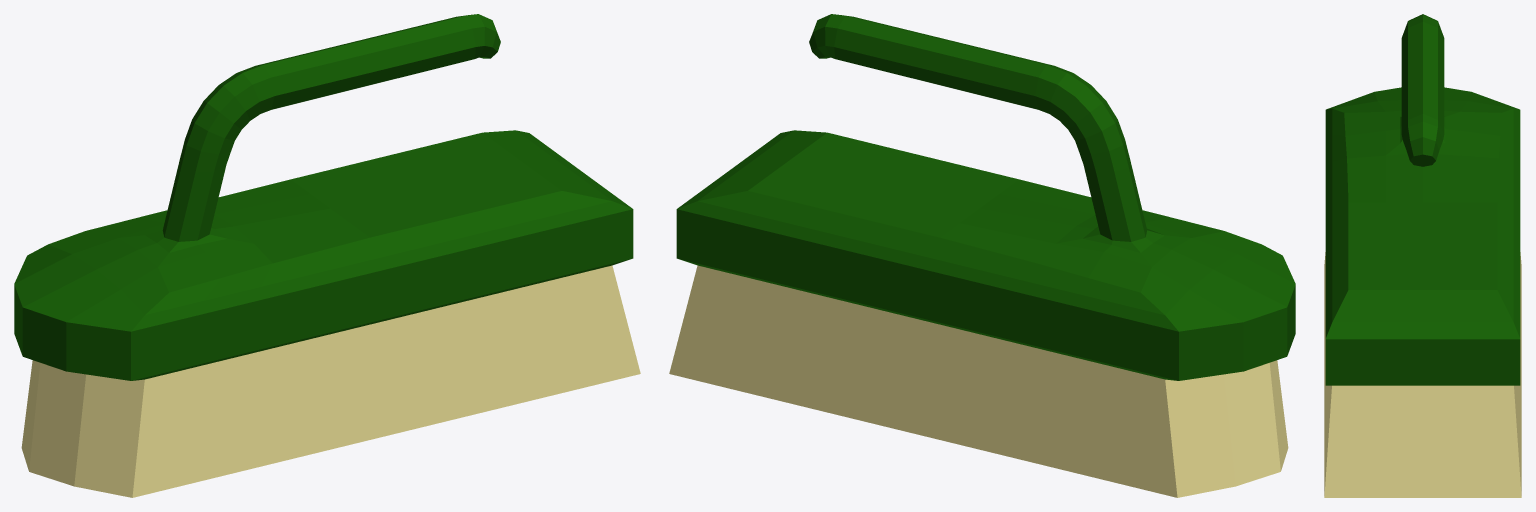
File: Cepillo.fbx
3 renders of one model, left to right at view 1: azimuth 30°, elevation 25°; view 2: azimuth 150°, elevation 25°; view 3: azimuth 270°, elevation 25°, orthographic. The views are drawn at different scales.
Visible parts, largest first — view 1: Cube.067; view 2: Cube.067; view 3: Cube.067.
Boxes of the visible parts, x1=… form: Cube.067: x1=14, y1=14, x2=640, y2=497; Cube.067: x1=669, y1=14, x2=1295, y2=497; Cube.067: x1=1324, y1=14, x2=1521, y2=497.
Size of the model in its own units: 18.17 by 10.79 by 5.86.
